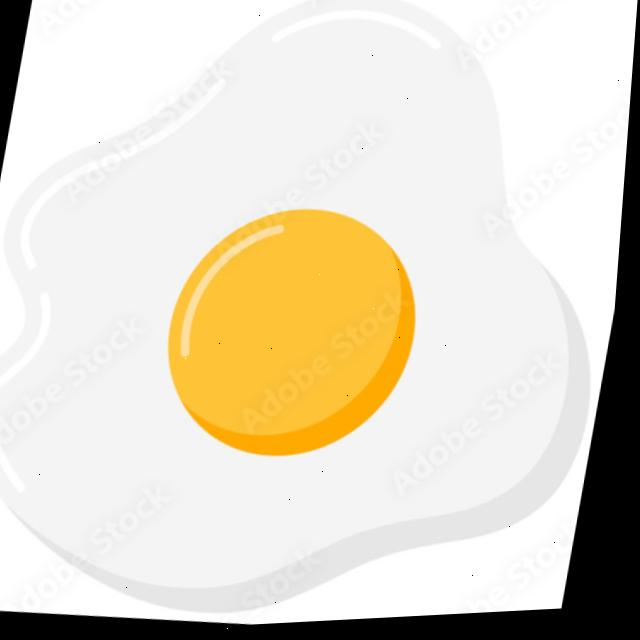Egg: (0, 0, 594, 613)
